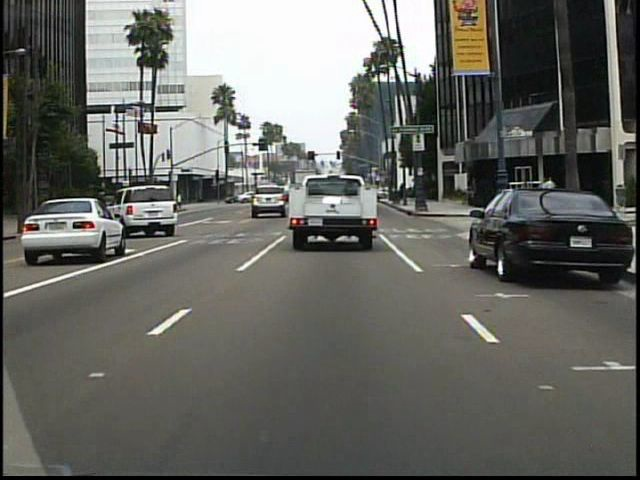person: (542, 174, 559, 213), (178, 190, 187, 212)
